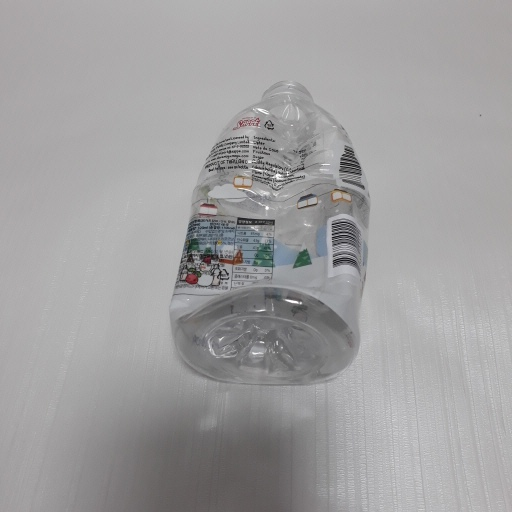Plastic_0: (172, 78, 368, 386)
